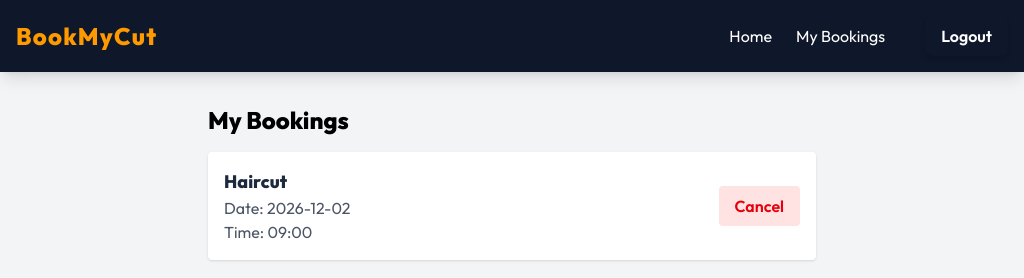
My Bookings page › shows bookings and cancels one after confirmation
Click the button "Cancel" at (759, 206), box [718,186,800,226]
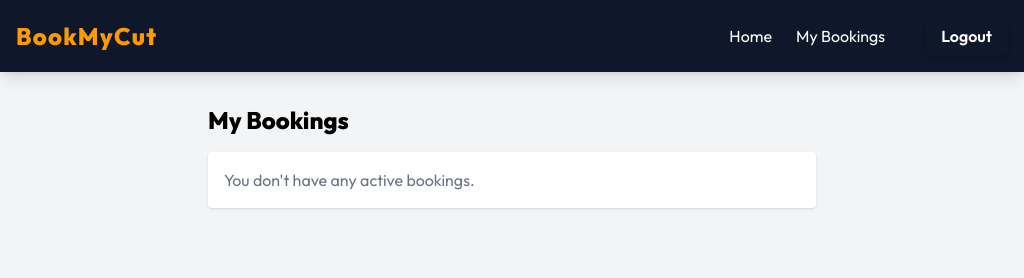
Check: the text "You don't have any active bookings." is shown, box [208,152,816,208]
